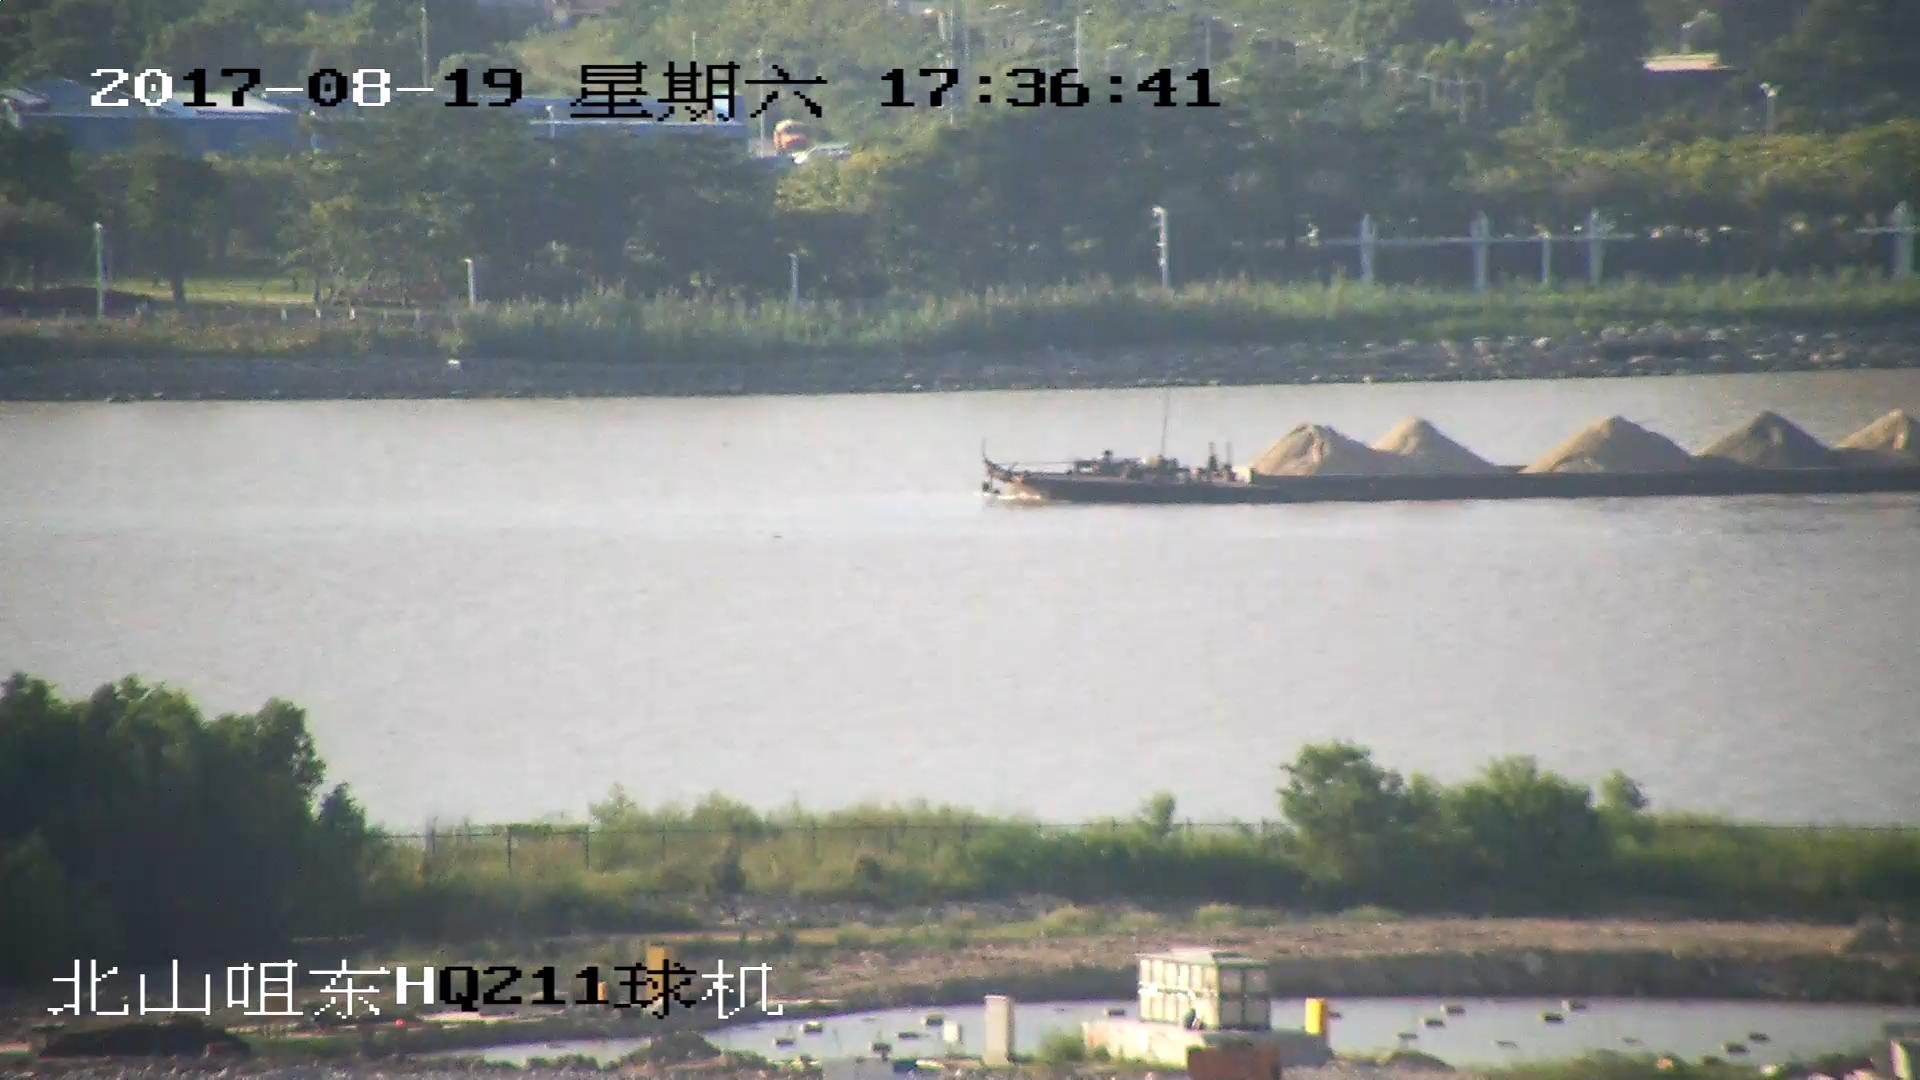Ship: (982, 409, 1920, 508)
